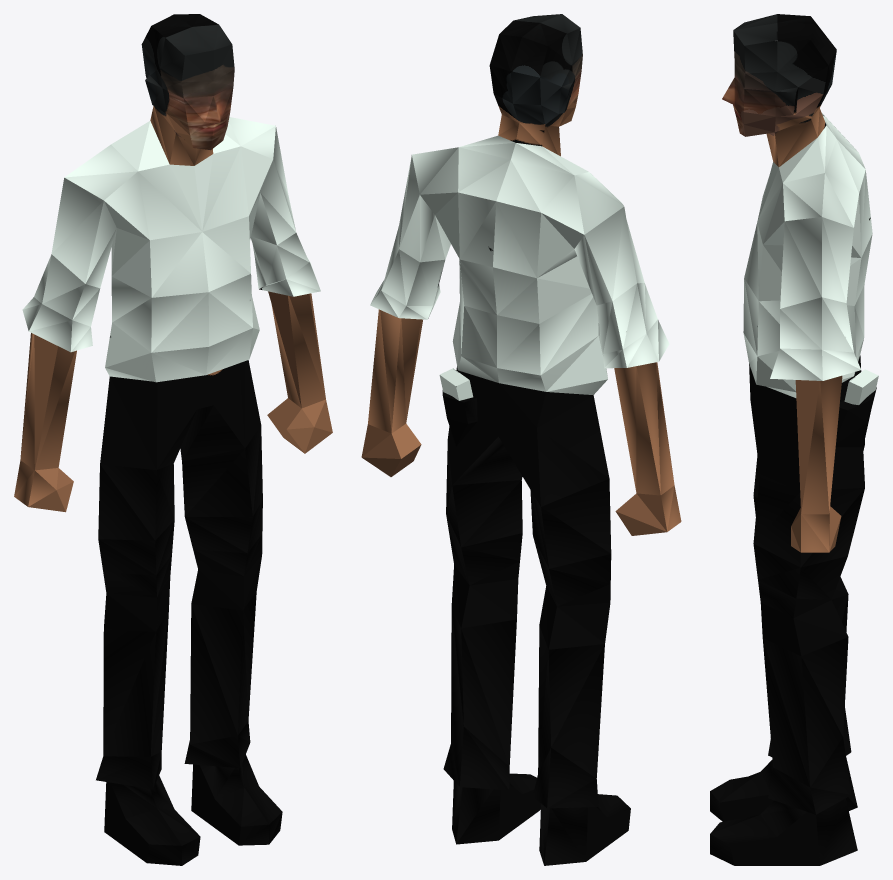
File: rama.fbx
The picture shows the model from 3 angles, left to right: view 1: azimuth 30°, elevation 25°; view 2: azimuth 150°, elevation 25°; view 3: azimuth 270°, elevation 25°; orthographic projection.
Visible parts, largest first — view 1: Object_34.007; view 2: Object_34.007; view 3: Object_34.007.
Boxes of the visible parts, left/top/right/bottom form: Object_34.007: left=14, top=14, right=332, bottom=865; Object_34.007: left=361, top=14, right=681, bottom=865; Object_34.007: left=710, top=14, right=878, bottom=865.
Bounding box in the file's own units: 68.9 × 174 × 32.8.
Materials: 1 (1 with a texture image).
